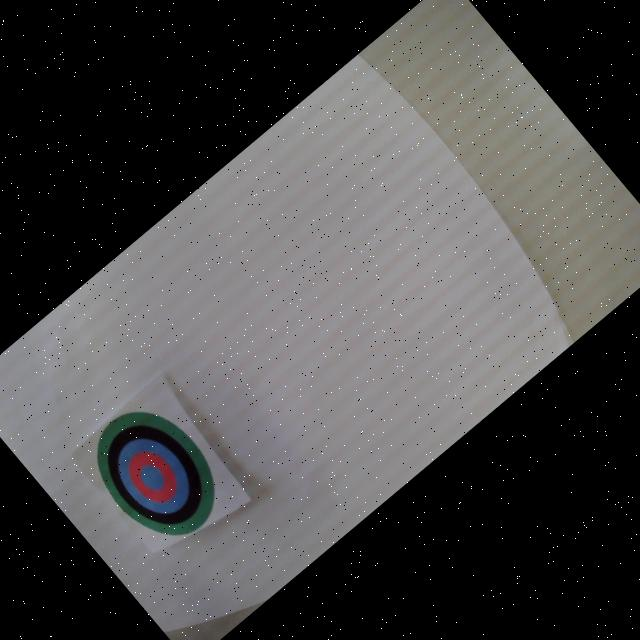COGNITIVE: (72, 387, 238, 558)
